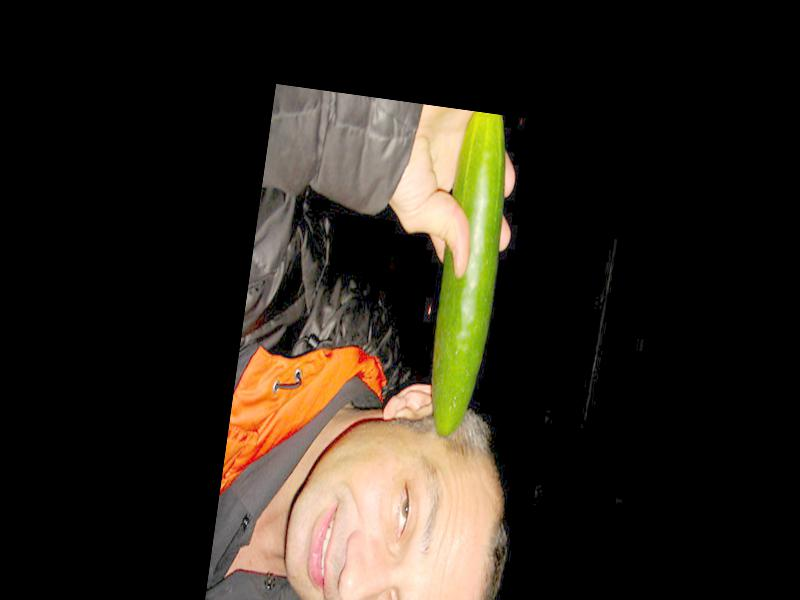Cucumber: (419, 111, 516, 442)
